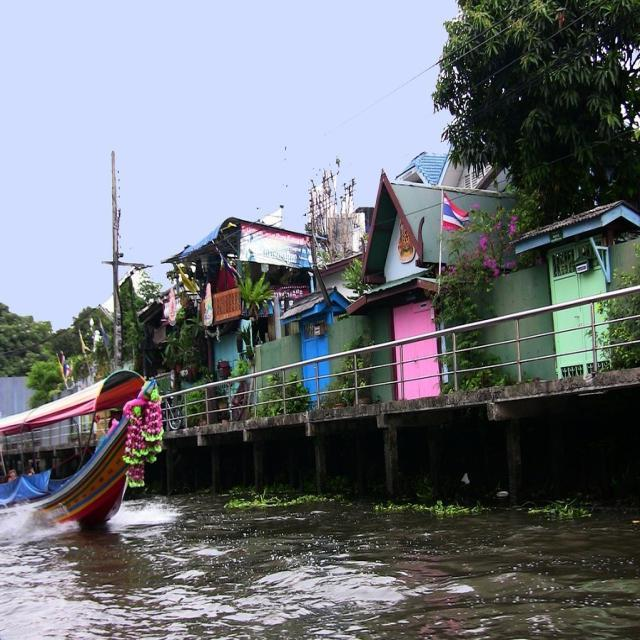Hyacinth: (230, 491, 321, 512), (373, 499, 472, 518), (533, 499, 588, 523)
boat: (0, 364, 165, 554)
